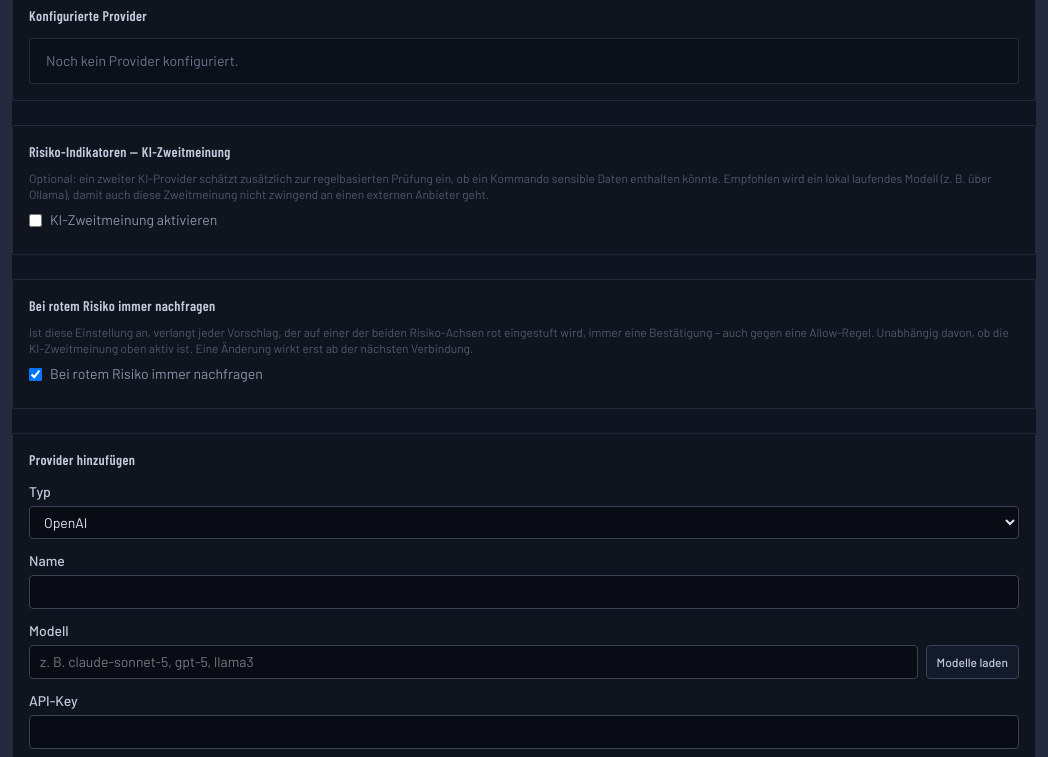
Test case: AiProviderSettings credentials test button (Spec 0050, Teil 3) › shows a valid result
The image size is (1048, 757).
Step 1. Type "sk-abc" into the password field labelled "API-Key" → (524, 732), box [29, 715, 1019, 749]
(page scrolled)
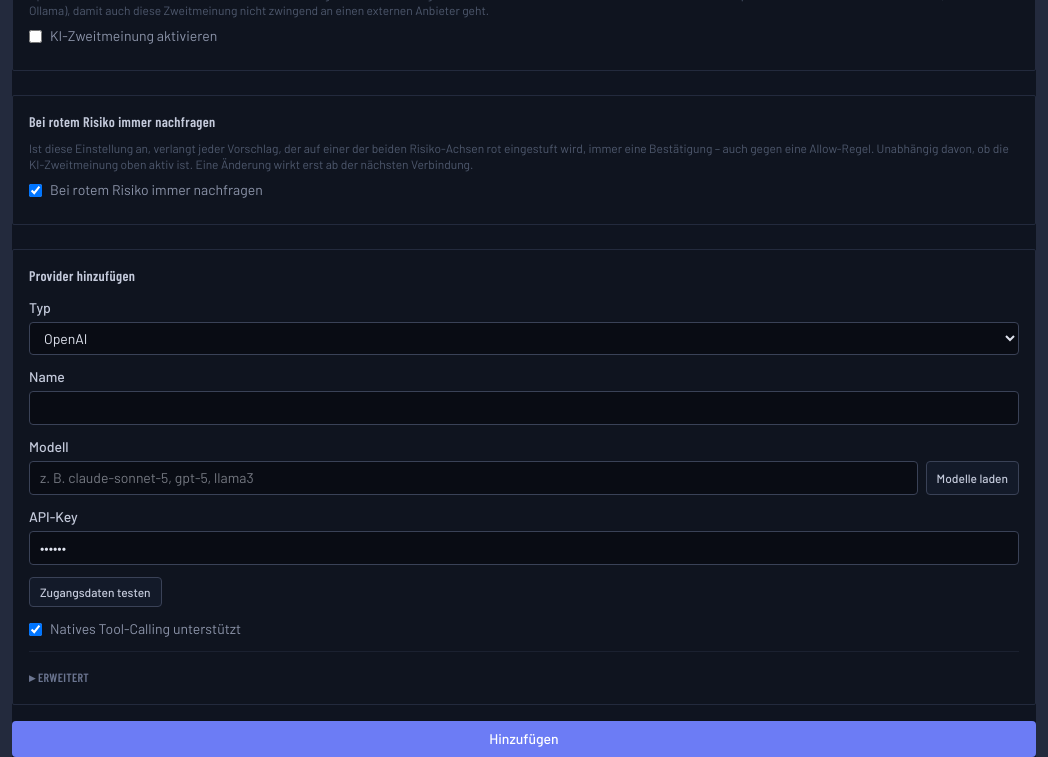
Step 2. Click the button "Zugangsdaten testen" → (95, 592), box [29, 577, 162, 607]
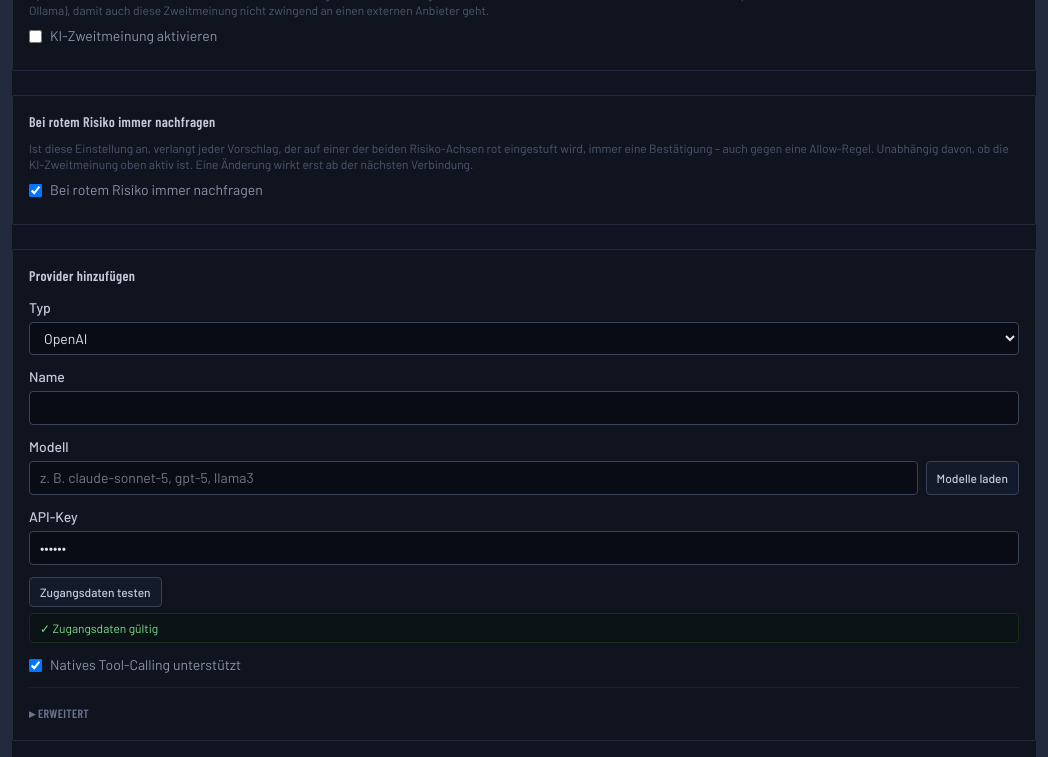
Expected: the text "✓ Zugangsdaten gültig" is shown, [29, 613, 1019, 643]
